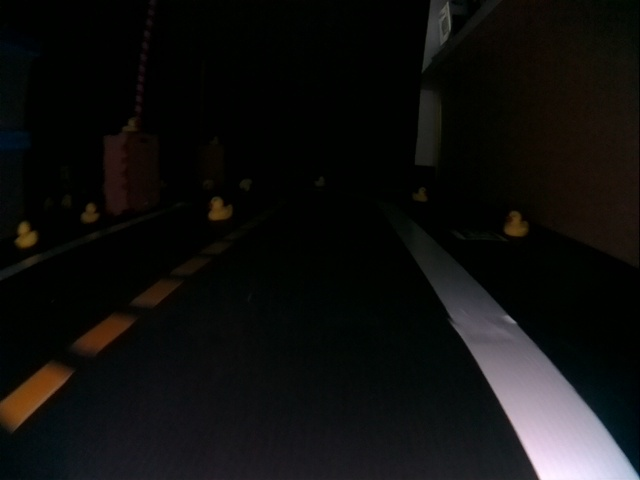Duckie: (14, 222, 40, 248), (505, 210, 528, 237), (207, 196, 232, 220), (81, 204, 99, 223), (122, 118, 138, 132), (413, 187, 428, 201), (239, 178, 251, 190), (210, 136, 219, 145)
QR code: (451, 228, 506, 241)
